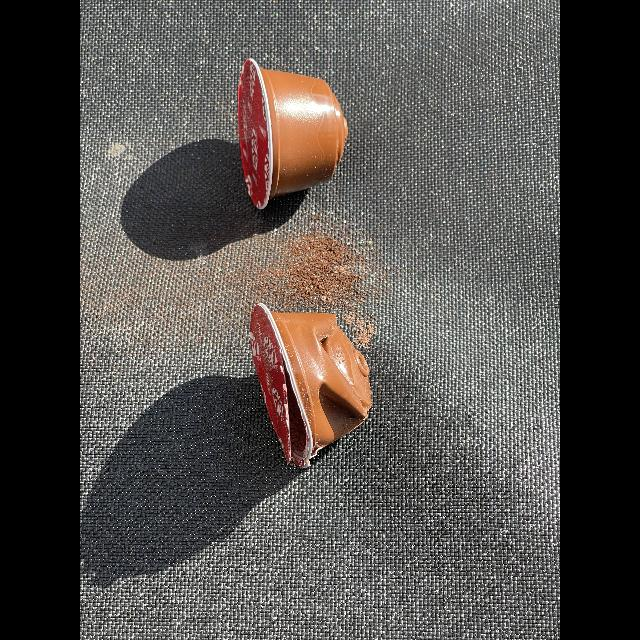damaged_capsule: (240, 311, 370, 477)
intact_capsule: (220, 49, 372, 263)
